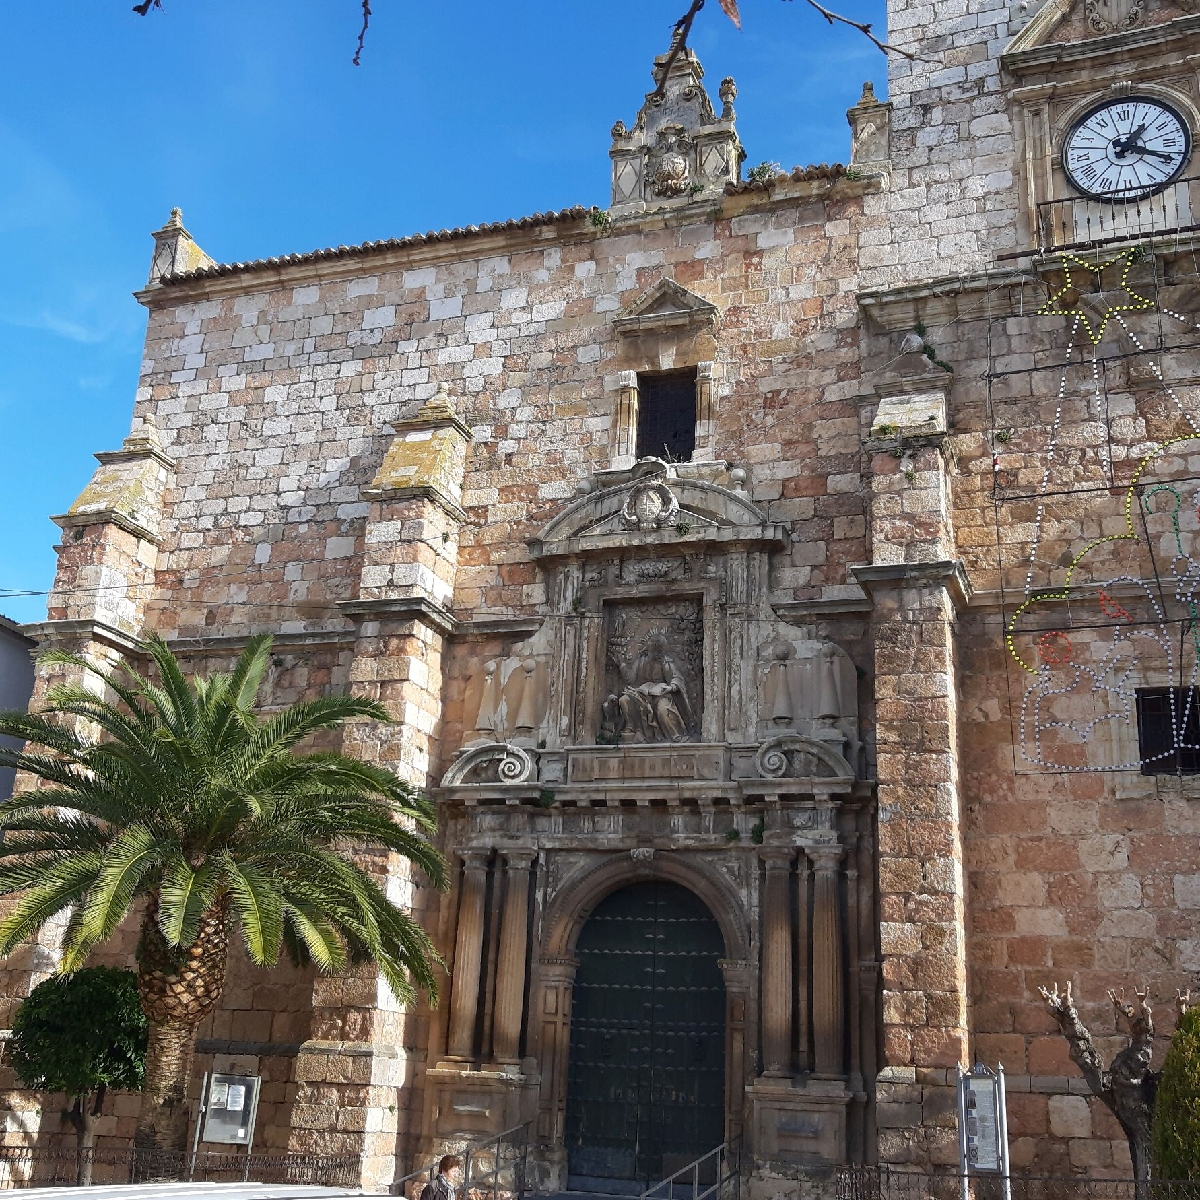arco-medio-punto: (542, 854, 749, 984)
fronton: (607, 274, 718, 327)
fronton-curvo: (537, 475, 771, 562)
fronton-partido: (433, 727, 862, 801)
vano-adintelado: (567, 575, 726, 749)
